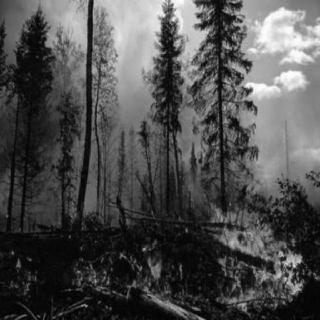Fire: (66, 193, 308, 315), (6, 230, 42, 302)
